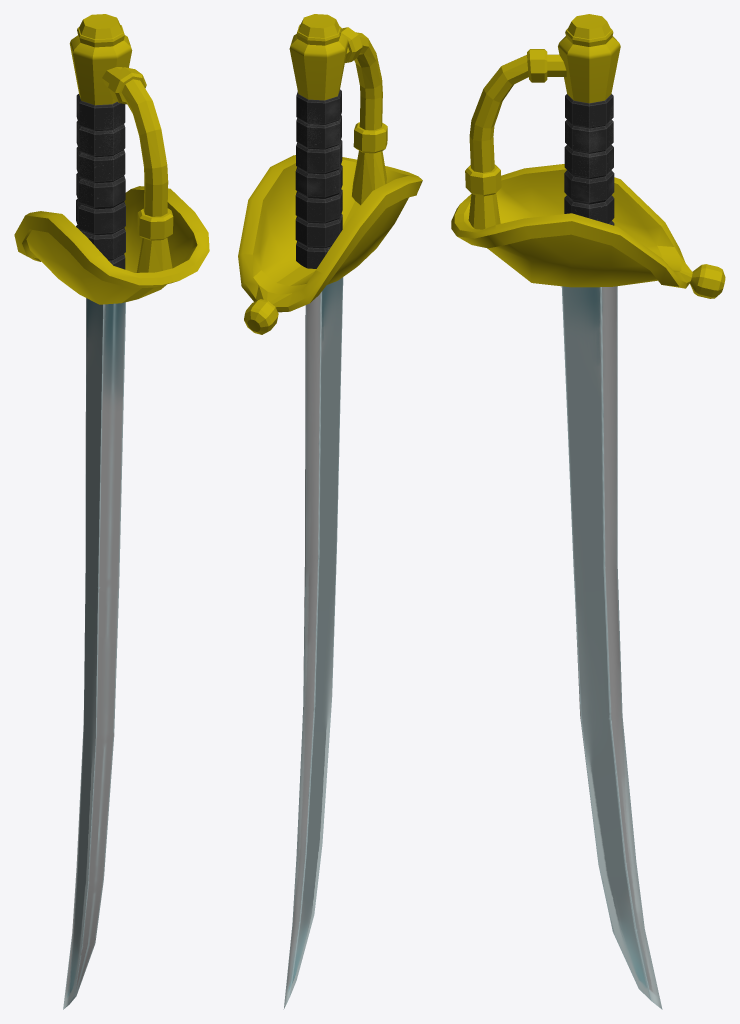
Rendered from Espada.fbx.
3 views of the same model, side by side, from view 1: azimuth 30°, elevation 25°; view 2: azimuth 150°, elevation 25°; view 3: azimuth 270°, elevation 25° (orthographic). The views are drawn at different scales.
Visible parts, largest first — view 1: pCube2, polySurface7, polySurface6, polySurface5; view 2: pCube2, polySurface6, polySurface7, polySurface5; view 3: pCube2, polySurface6, polySurface7, polySurface5.
Part boxes in pixels (box(x1,y1,x2,y2)): pCube2: box(63, 298, 125, 1009); polySurface7: box(69, 14, 132, 269); polySurface6: box(14, 186, 209, 304); polySurface5: box(102, 67, 173, 272); pCube2: box(283, 277, 343, 1009); polySurface6: box(238, 155, 422, 334); polySurface7: box(289, 14, 348, 268); polySurface5: box(341, 27, 387, 205); pCube2: box(561, 286, 662, 1009); polySurface6: box(451, 164, 725, 298); polySurface7: box(558, 14, 620, 225); polySurface5: box(465, 49, 566, 229).
Bounding box in the file's own units: 2.16 × 17.13 × 4.3.
3 materials, 2 textured.
